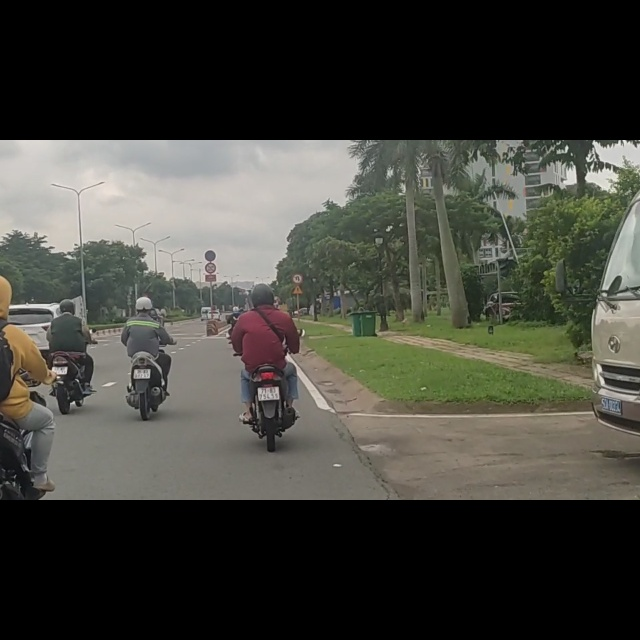bien_cam: (205, 218, 216, 237), (292, 255, 303, 274), (205, 197, 216, 215), (292, 236, 303, 254)
